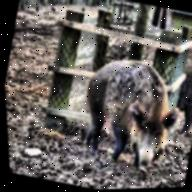boar: (64, 48, 192, 183)
